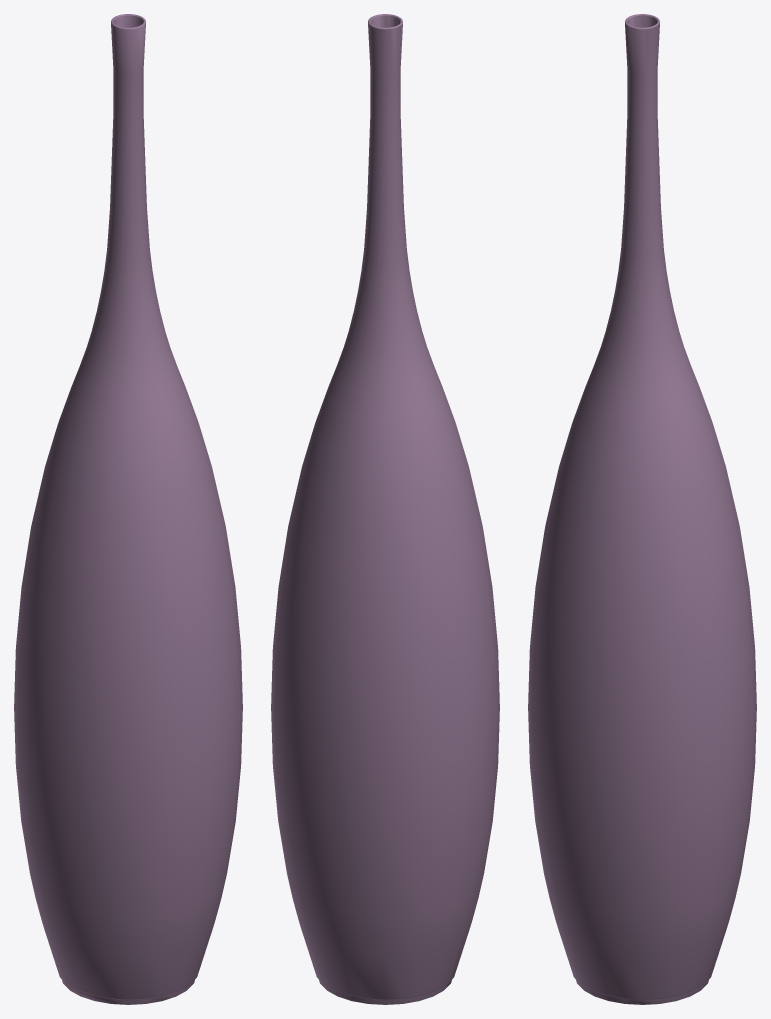
Rendered from Pot5.fbx.
3 views of the same model, side by side, from view 1: azimuth 30°, elevation 25°; view 2: azimuth 150°, elevation 25°; view 3: azimuth 270°, elevation 25° (orthographic).
Parts seen in each view (by area): view 1: Pot5; view 2: Pot5; view 3: Pot5.
Part boxes in pixels (x1,y1,x2,y2): Pot5: (14, 14, 242, 1004); Pot5: (271, 14, 499, 1004); Pot5: (528, 14, 756, 1004).
Size of the model in its own units: 0.0857 by 0.3946 by 0.0857.
